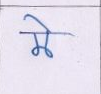e_matra: (25, 15, 53, 31)
